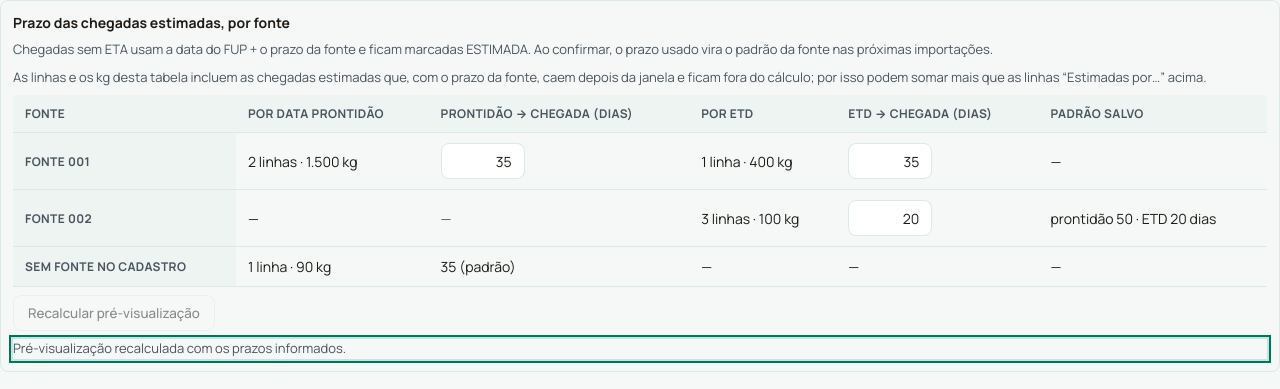
it: ForecastPrazosPorFonte › depois do recalculo: mensagem de retorno recebe o foco; sumiu ao editar de novo
Type "40" into the field named "Dias do ETD até a chegada - FONTE 001" at [890, 161], box x1=848 y1=143 x2=932 y2=179
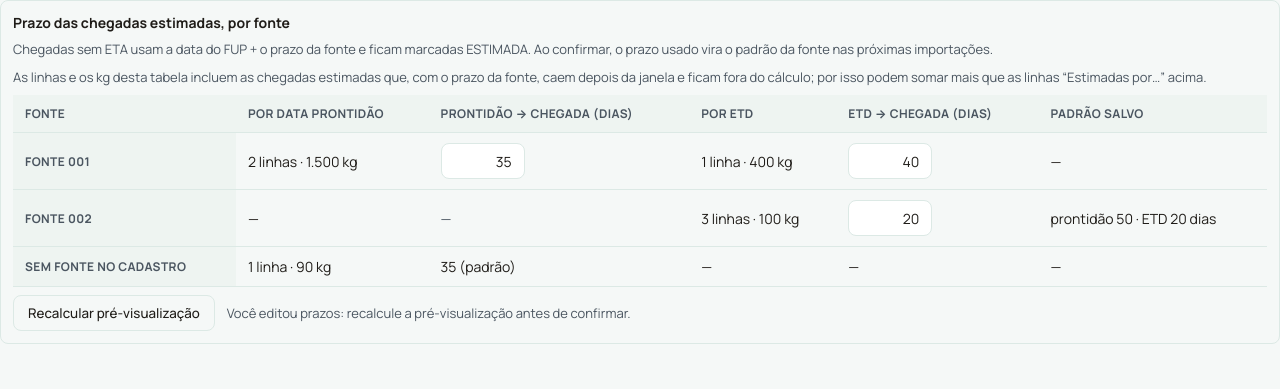
expect the text "Pré-visualização recalculada" is gone: met
